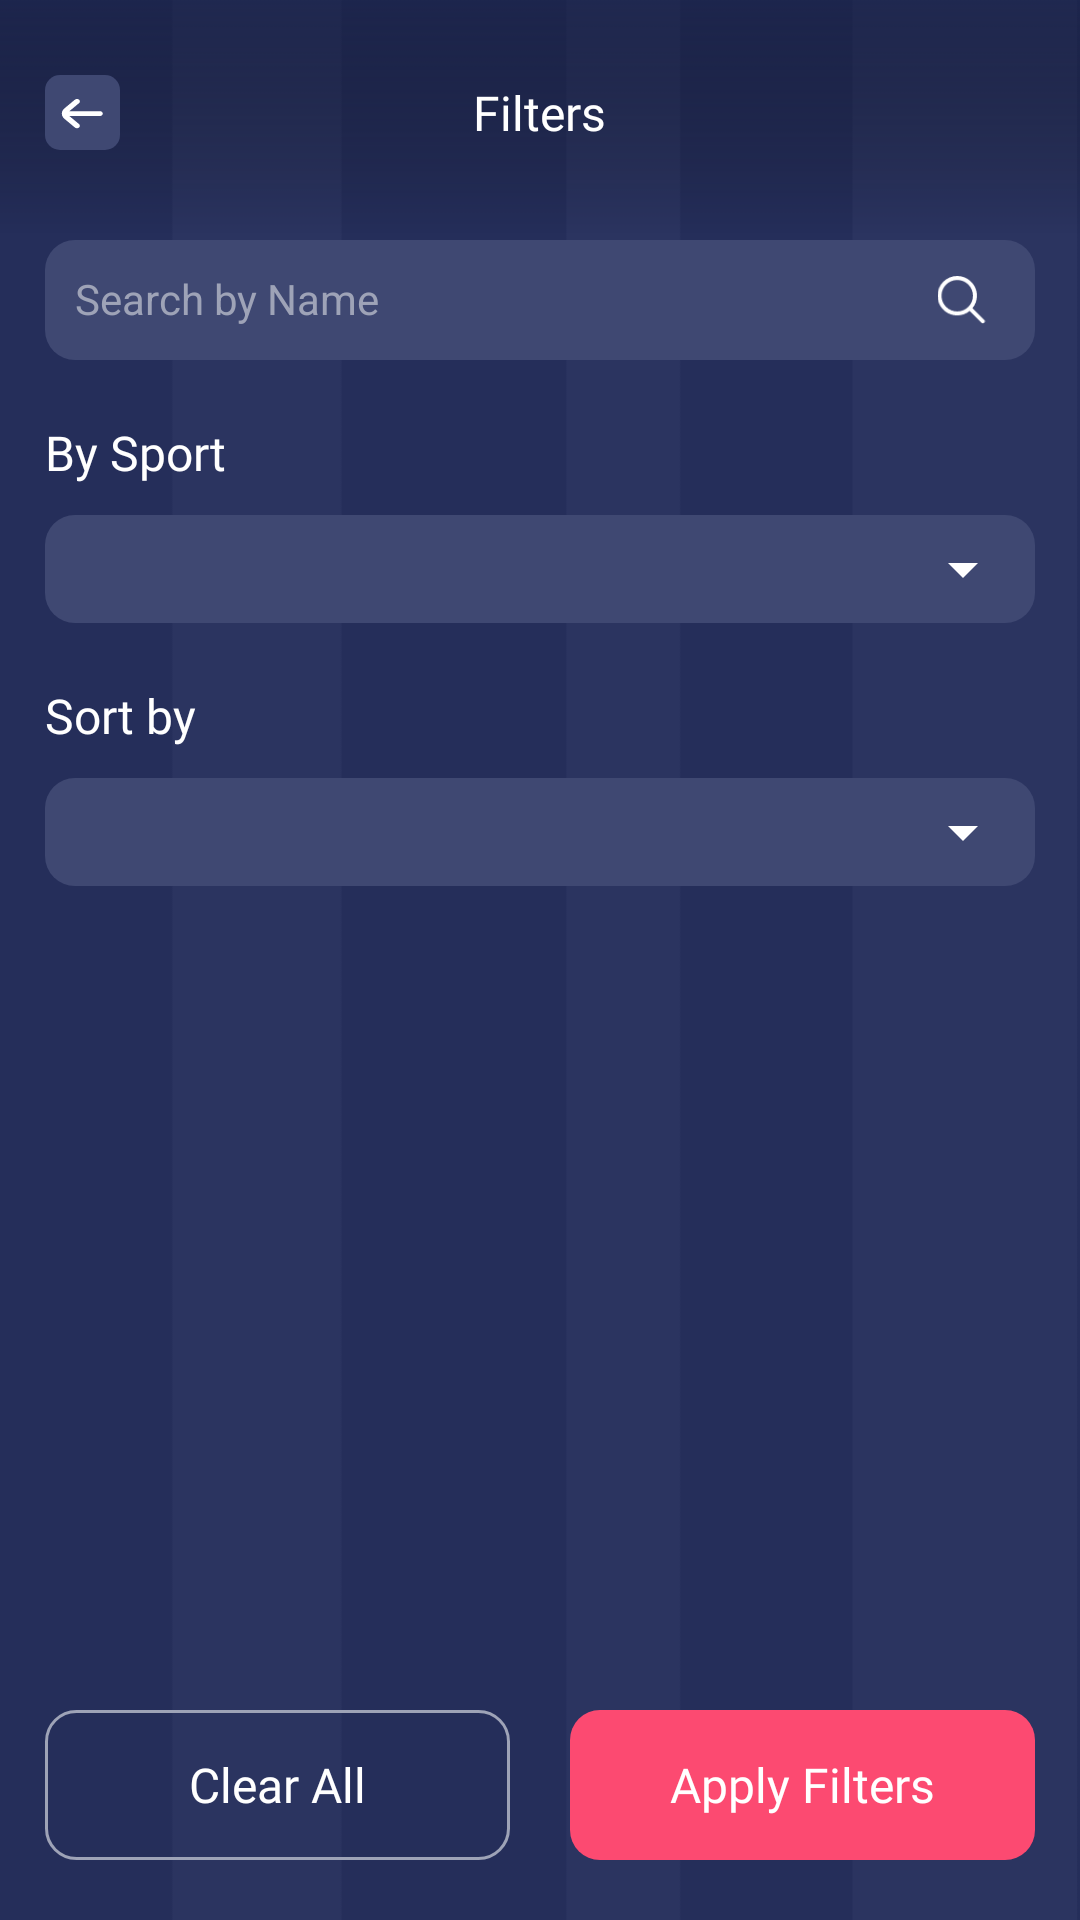

Icon bounding boxes for this 1080px x 1920px phone screenshot, format bbox(x1, y1, x2, y2):
back arrow: bbox(45, 75, 120, 150)
